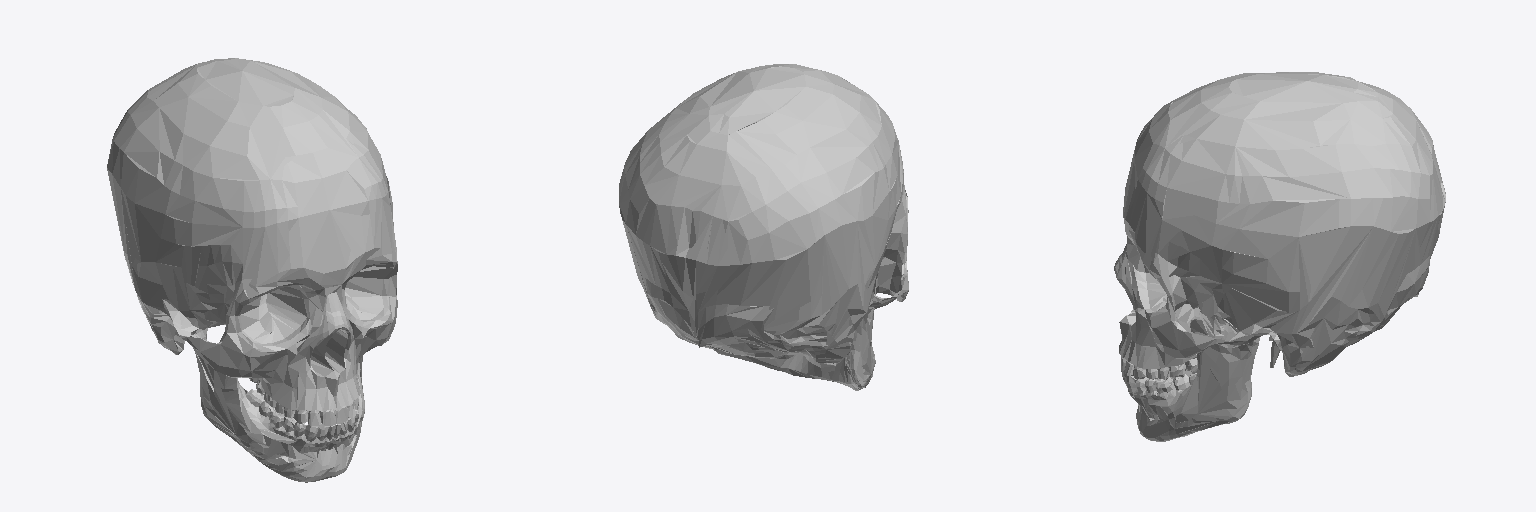
File: human_skull.obj
3 views of the same model, side by side, from view 1: azimuth 30°, elevation 25°; view 2: azimuth 150°, elevation 25°; view 3: azimuth 270°, elevation 25° (orthographic).
Parts seen in each view (by area): view 1: skull; view 2: skull; view 3: skull.
Part boxes in pixels (bbox=[...]): skull: bbox=[107, 58, 397, 482]; skull: bbox=[619, 64, 908, 390]; skull: bbox=[1114, 72, 1445, 441].
Bounding box in the file's own units: 1.24 × 1.83 × 1.57.